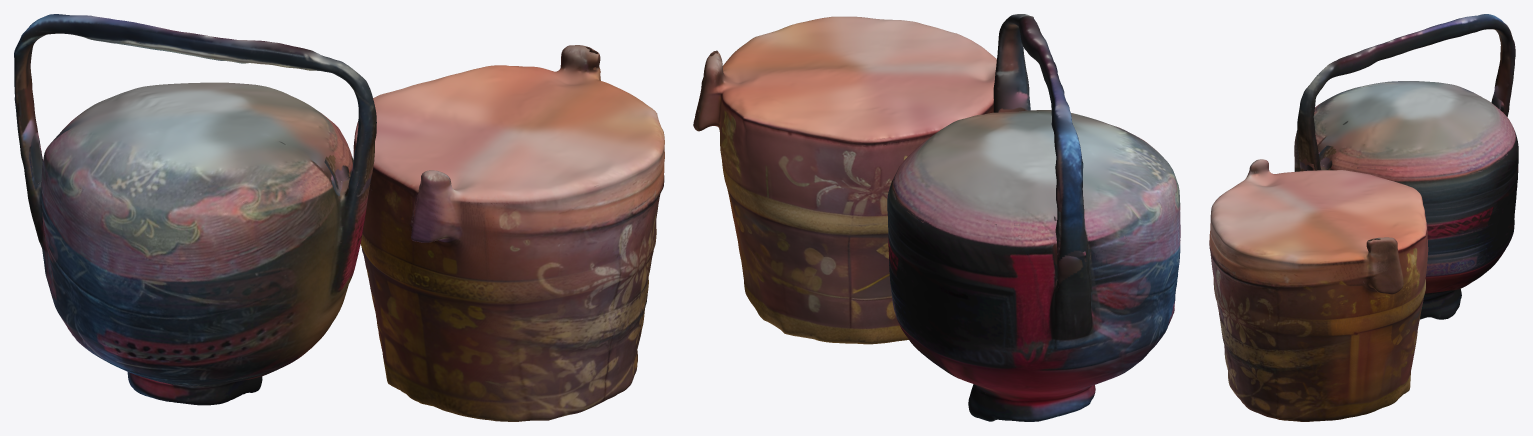
Rendered from lacquerware.glb.
3 renders of one model, left to right at view 1: azimuth 30°, elevation 25°; view 2: azimuth 150°, elevation 25°; view 3: azimuth 270°, elevation 25°, orthographic. The views are drawn at different scales.
Visible parts, largest first — view 1: Retopo_model.001, Retopo_model; view 2: Retopo_model.001, Retopo_model; view 3: Retopo_model, Retopo_model.001.
Boxes of the visible parts, box(x1,y1,x2,y2) form: Retopo_model.001: box(14, 14, 376, 405); Retopo_model: box(353, 45, 664, 421); Retopo_model.001: box(887, 14, 1180, 421); Retopo_model: box(693, 16, 996, 344); Retopo_model: box(1209, 159, 1428, 421); Retopo_model.001: box(1294, 14, 1518, 319).
Size of the model in its own units: 1.17 by 0.7957 by 0.8452.
2 materials, 2 textured.
